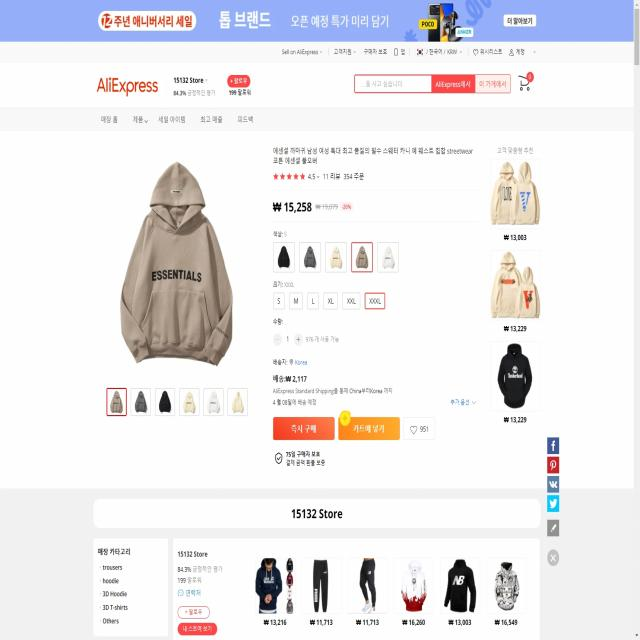menu-bar: (276, 44, 541, 60)
menu-panel: (94, 108, 259, 130)
search: (352, 69, 513, 97)
